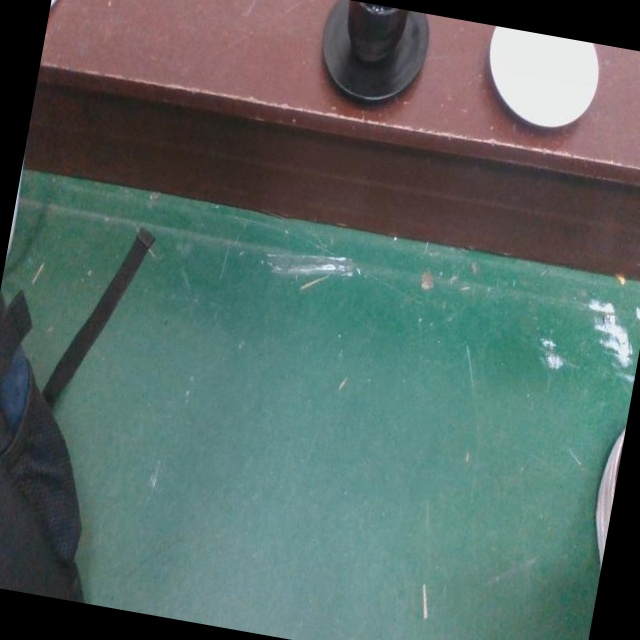black: (317, 5, 427, 111)
white: (483, 35, 599, 130)
